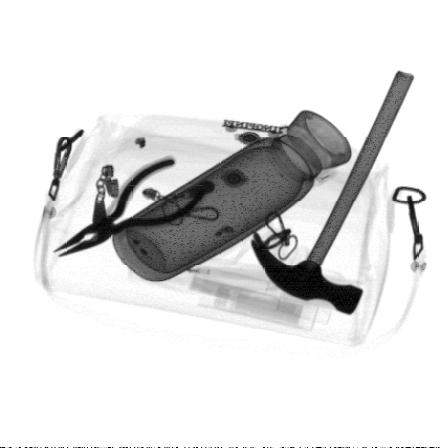Hammer: (249, 68, 415, 315)
Pliers: (53, 154, 207, 257)
